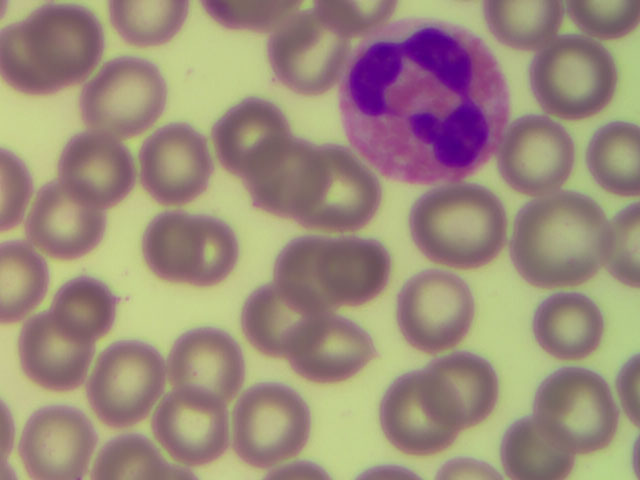RBC: (22, 394, 105, 480), (87, 53, 170, 138), (57, 109, 140, 194), (30, 174, 113, 259), (132, 119, 215, 204), (127, 204, 210, 289), (168, 211, 251, 296), (55, 265, 138, 350), (16, 312, 99, 397), (88, 338, 171, 423), (174, 324, 257, 409), (152, 389, 235, 474), (234, 378, 317, 463), (305, 311, 388, 396), (248, 274, 331, 359), (261, 218, 344, 303), (324, 226, 407, 311), (317, 143, 400, 228), (254, 136, 337, 221), (224, 89, 307, 174), (271, 18, 354, 103), (418, 184, 501, 269), (394, 264, 477, 349), (434, 342, 517, 427), (382, 377, 465, 462), (528, 289, 611, 374), (519, 195, 602, 280), (501, 119, 584, 204), (529, 41, 612, 126), (533, 369, 616, 454), (25, 1, 108, 85), (502, 411, 571, 480)
WBC: (342, 20, 514, 190)
